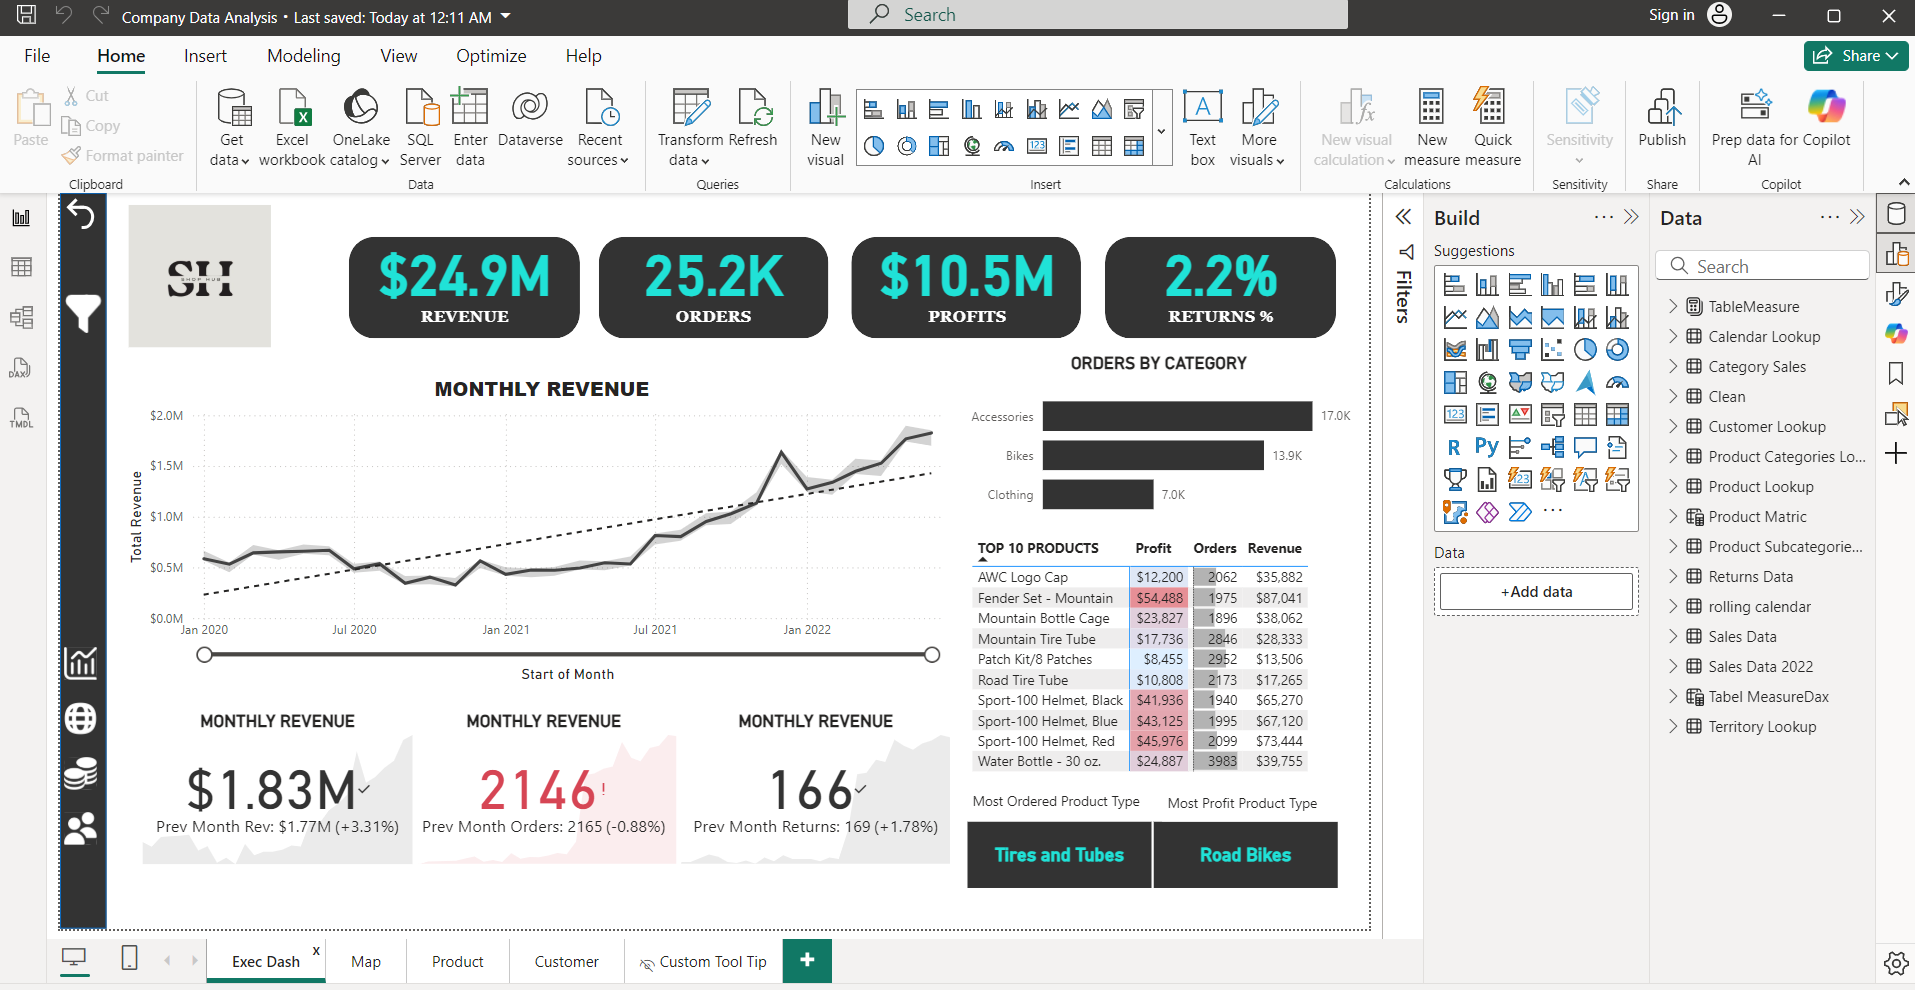

Layout of this report page (visuals, bound fields, positions):
{"tool":"powerbi","page":{"name":"Exec Dash","canvas":[1280,720],"ordinal":0},"visuals":[{"type":"image","box":[62.6,5.7,149.3,150.8],"z":0},{"type":"card","fields":{"Values":["TableMeasure.Total Revenue"]},"box":[295.9,33,200.5,100.3],"z":0,"group":"g2"},{"type":"group","id":"g1","title":"KPI CARDS","box":[283,42.7,965.7,99.6],"z":0,"group":"g3"},{"type":"shape","box":[527.6,42.7,224.7,99.6],"z":0,"group":"g1"},{"type":"actionButton","box":[0,601.4,45.7,40],"z":0,"group":"g4"},{"type":"shape","title":"Side Bar","box":[0,0,45.5,719.6],"z":1000},{"type":"group","id":"g2","title":"KPI VALUES","box":[295.9,33,940.4,100.3],"z":1000,"group":"g3"},{"type":"card","fields":{"Values":["TableMeasure.Returns Rate"]},"box":[1035.7,33,200.5,100.3],"z":1000,"group":"g2"},{"type":"shape","box":[1022.6,42.7,226.1,99.6],"z":1000,"group":"g1"},{"type":"actionButton","box":[0,547.1,45.7,40],"z":1000,"group":"g4"},{"type":"group","id":"g3","title":"KPIs","box":[283,33,965.7,109.2],"z":2000},{"type":"card","fields":{"Values":["TableMeasure.Total Profit"]},"box":[787.5,33,200.5,100.3],"z":2000,"group":"g2"},{"type":"shape","box":[283,42.7,226.1,99.6],"z":2000,"group":"g1"},{"type":"actionButton","box":[0,494.3,45.7,40],"z":2000,"group":"g4"},{"type":"card","fields":{"Values":["TableMeasure.total orders"]},"box":[539.2,33,200.5,100.3],"z":3000,"group":"g2"},{"type":"shape","box":[775.1,42.7,224.7,99.6],"z":3000,"group":"g1"},{"type":"lineChart","title":"MONTHLY REVENUE","fields":{"Category":["Calendar Lookup.Start of Month"],"Y":["TableMeasure.Total Revenue"]},"box":[61.2,177.8,820.6,305.8],"z":3000},{"type":"actionButton","box":[0,440,45.7,40],"z":3000,"group":"g4"},{"type":"kpi","title":"MONTHLY REVENUE","fields":{"TrendLine":["Calendar Lookup.Start of Month"],"Indicator":["TableMeasure.total orders"],"Goal":["TableMeasure.Previous  month Orders"]},"box":[337.1,506.3,271.6,155],"z":4000},{"type":"kpi","title":"MONTHLY REVENUE","fields":{"TrendLine":["Calendar Lookup.Start of Month"],"Indicator":["TableMeasure.Total Returns"],"Goal":["TableMeasure.Previous  month Returns"]},"box":[603,506.3,273.1,155],"z":5000},{"type":"kpi","title":"MONTHLY REVENUE","fields":{"Indicator":["TableMeasure.Total Revenue"],"TrendLine":["Calendar Lookup.Start of Month"],"Goal":["TableMeasure.Previous Month"]},"box":[75.7,505.7,274.3,155.7],"z":6000},{"type":"clusteredBarChart","title":"ORDERS BY CATEGORY ","fields":{"Category":["Product Categories Lookup.CategoryName"],"Y":["TableMeasure.total orders"]},"box":[881.8,156.4,386.8,174.9],"z":7000},{"type":"pivotTable","fields":{"Rows":["Product Lookup.ProductName"],"Values":["TableMeasure.Total Profit","TableMeasure.total orders","TableMeasure.Total Revenue"]},"box":[887.5,331.4,361.2,253.2],"z":8000},{"type":"card","fields":{"Values":["Min(Product Subcategories Lookup.SubcategoryName)"]},"box":[887.3,614.6,180.3,64.9],"z":9000},{"type":"textbox","box":[887.8,580.8,183.4,33],"z":10000},{"type":"card","fields":{"Values":["Min(Product Subcategories Lookup.SubcategoryName)"]},"box":[1070.5,614.6,180.3,64.9],"z":11000},{"type":"textbox","box":[1078,581.7,183.5,32.7],"z":12000},{"type":"actionButton","box":[0,0,45.2,40.4],"z":13000},{"type":"group","id":"g4","title":"Navigate Button","box":[0,440,45.7,201.4],"z":14000},{"type":"actionButton","box":[0,92.9,45.7,50],"z":15000}]}

Visuals, with their boxes on the page's 1280x720 design canvas (x1, y1, x2, y2). These are canvas units, not pixel positions in the 1915x990 screenshot, which may show the page scaled, cropped or inside an application window:
image: 63,6,212,156
card - TableMeasure.Total Revenue: 296,33,496,133
"KPI CARDS" group: 283,43,1249,142
shape: 528,43,752,142
actionButton: 0,601,46,641
"Side Bar" shape: 0,0,46,720
"KPI VALUES" group: 296,33,1236,133
card - TableMeasure.Returns Rate: 1036,33,1236,133
shape: 1023,43,1249,142
actionButton: 0,547,46,587
"KPIs" group: 283,33,1249,142
card - TableMeasure.Total Profit: 788,33,988,133
shape: 283,43,509,142
actionButton: 0,494,46,534
card - TableMeasure.total orders: 539,33,740,133
shape: 775,43,1000,142
"MONTHLY REVENUE" lineChart: 61,178,882,484
actionButton: 0,440,46,480
"MONTHLY REVENUE" kpi: 337,506,609,661
"MONTHLY REVENUE" kpi: 603,506,876,661
"MONTHLY REVENUE" kpi: 76,506,350,661
"ORDERS BY CATEGORY " clusteredBarChart: 882,156,1269,331
pivotTable - Product Lookup.ProductName x TableMeasure.Total Profit: 888,331,1249,585
card - Min(Product Subcategories Lookup.SubcategoryName): 887,615,1068,680
textbox: 888,581,1071,614
card - Min(Product Subcategories Lookup.SubcategoryName): 1070,615,1251,680
textbox: 1078,582,1262,614
actionButton: 0,0,45,40
"Navigate Button" group: 0,440,46,641
actionButton: 0,93,46,143
